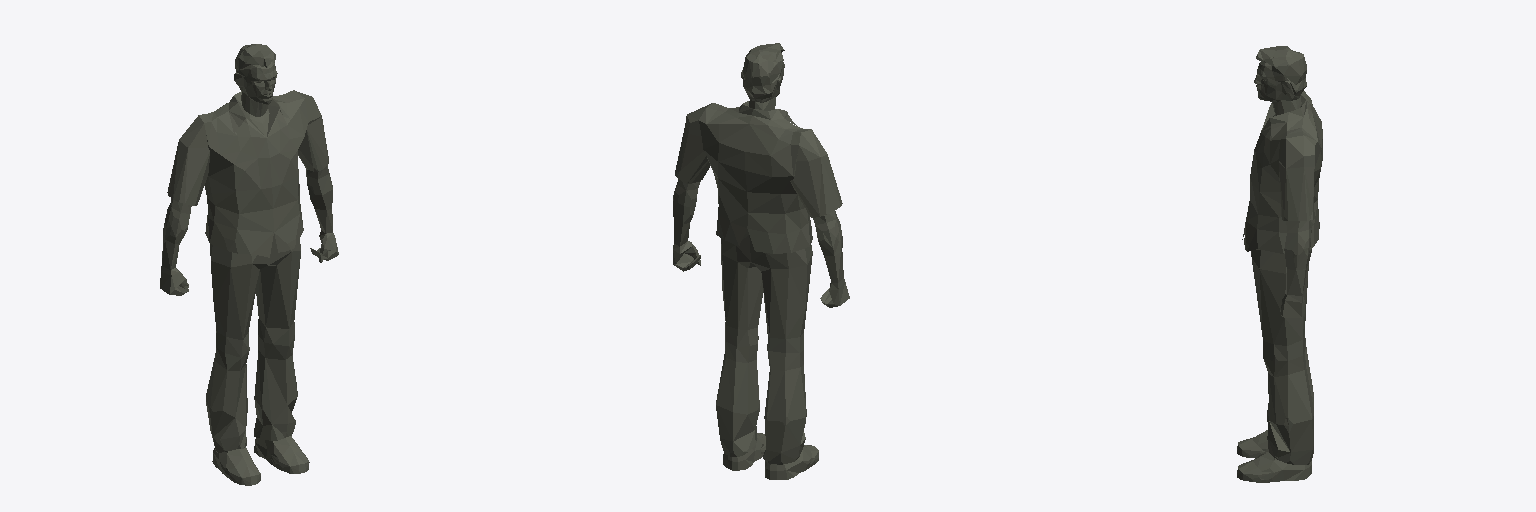
Rendered from AmitPatnaik.obj.
3 renders of one model, left to right at view 1: azimuth 30°, elevation 25°; view 2: azimuth 150°, elevation 25°; view 3: azimuth 270°, elevation 25°, orthographic.
Visible parts, largest first — view 1: Mesh6 Group1 Model, Mesh7 Group1 Model, Mesh4 Right_Arm_Upper1 Group1 Model, Mesh5 Right_Arm_Lower1 Group1 Model, Mesh1 Left_Arm_Lower1 Group1 Model, Mesh2 Left_Arm_Upper1 Group1 Model, Mesh9 Group1 Model, Mesh8 Group1 Model; view 2: Mesh7 Group1 Model, Mesh6 Group1 Model, Mesh4 Right_Arm_Upper1 Group1 Model, Mesh5 Right_Arm_Lower1 Group1 Model, Mesh1 Left_Arm_Lower1 Group1 Model, Mesh2 Left_Arm_Upper1 Group1 Model, Mesh8 Group1 Model, Mesh9 Group1 Model; view 3: Mesh6 Group1 Model, Mesh7 Group1 Model, Mesh2 Left_Arm_Upper1 Group1 Model, Mesh1 Left_Arm_Lower1 Group1 Model, Mesh9 Group1 Model, Mesh8 Group1 Model.
Boxes of the visible parts, <box> form: Mesh6 Group1 Model: <box>199,44,308,257</box>; Mesh7 Group1 Model: <box>206,234,300,452</box>; Mesh4 Right_Arm_Upper1 Group1 Model: <box>167,115,209,205</box>; Mesh5 Right_Arm_Lower1 Group1 Model: <box>160,198,191,295</box>; Mesh1 Left_Arm_Lower1 Group1 Model: <box>306,166,338,262</box>; Mesh2 Left_Arm_Upper1 Group1 Model: <box>294,90,328,171</box>; Mesh9 Group1 Model: <box>254,436,309,473</box>; Mesh8 Group1 Model: <box>212,447,260,485</box>; Mesh7 Group1 Model: <box>716,229,812,464</box>; Mesh6 Group1 Model: <box>699,43,812,253</box>; Mesh4 Right_Arm_Upper1 Group1 Model: <box>790,129,842,217</box>; Mesh5 Right_Arm_Lower1 Group1 Model: <box>813,211,849,307</box>; Mesh1 Left_Arm_Lower1 Group1 Model: <box>673,179,700,271</box>; Mesh2 Left_Arm_Upper1 Group1 Model: <box>675,103,711,183</box>; Mesh8 Group1 Model: <box>765,445,818,479</box>; Mesh9 Group1 Model: <box>723,433,765,470</box>; Mesh6 Group1 Model: <box>1242,46,1322,253</box>; Mesh7 Group1 Model: <box>1251,249,1313,464</box>; Mesh2 Left_Arm_Upper1 Group1 Model: <box>1278,135,1314,220</box>; Mesh1 Left_Arm_Lower1 Group1 Model: <box>1280,220,1311,317</box>; Mesh9 Group1 Model: <box>1237,452,1311,482</box>; Mesh8 Group1 Model: <box>1237,430,1268,458</box>.
Bounding box in the file's own units: 0.4297 × 1.01 × 0.1916.